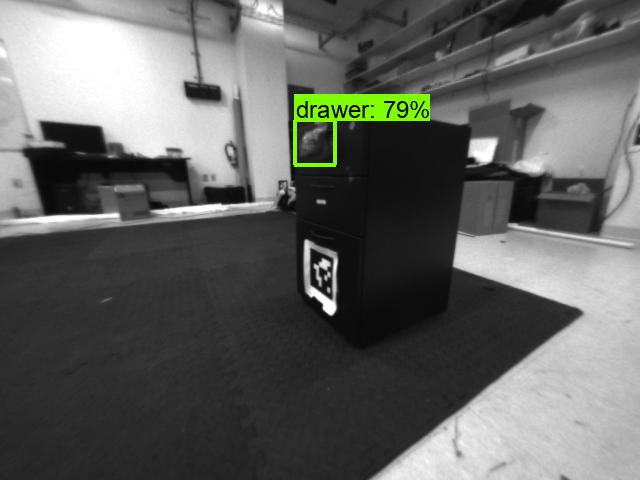drawer: (295, 122, 338, 163)
